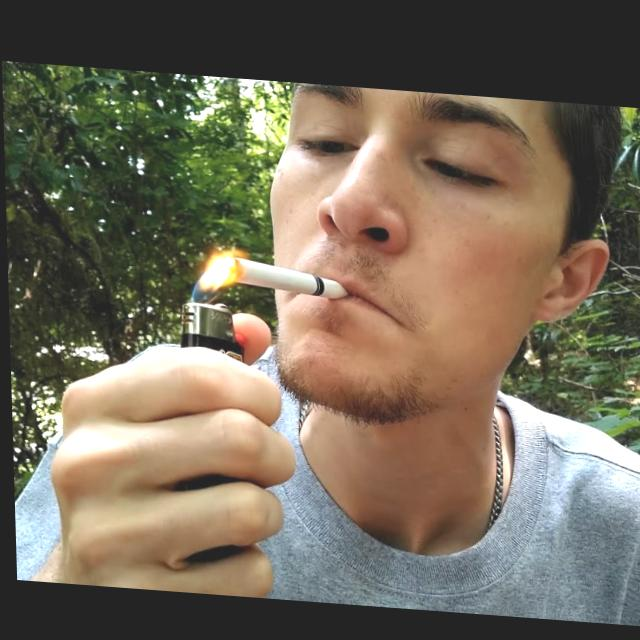cigarette: (228, 253, 346, 294)
